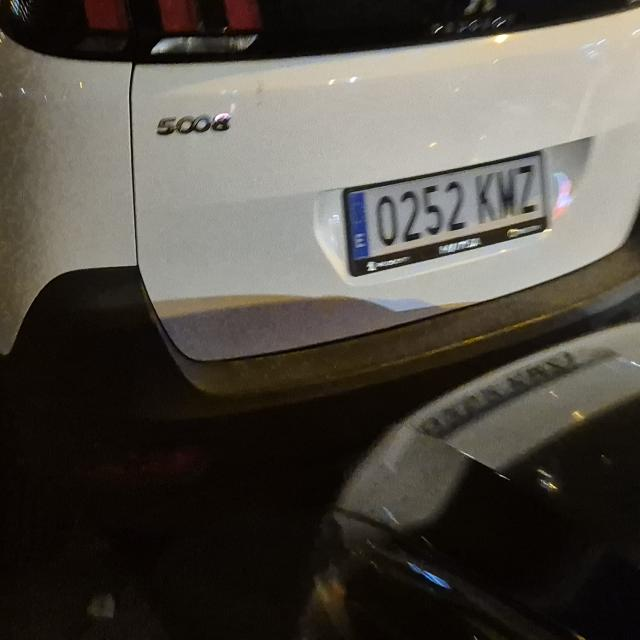license_plate-34Td: (344, 152, 552, 275)
